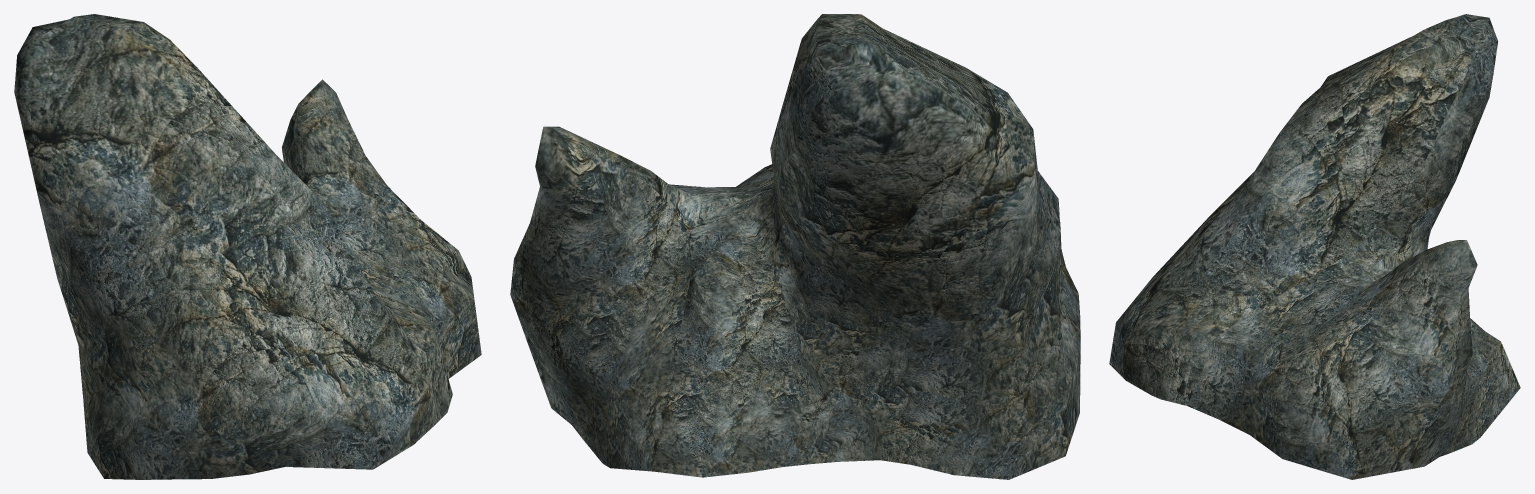
File: rockBlobTwo.FBX
3 renders of one model, left to right at view 1: azimuth 30°, elevation 25°; view 2: azimuth 150°, elevation 25°; view 3: azimuth 270°, elevation 25°, orthographic. The views are drawn at different scales.
Visible parts, largest first — view 1: pCube2; view 2: pCube2; view 3: pCube2.
Part boxes in pixels (bbox=[...]): pCube2: bbox=[14, 14, 481, 479]; pCube2: bbox=[510, 14, 1080, 479]; pCube2: bbox=[1109, 14, 1520, 479].
Bounding box in the file's own units: 21.87 × 20.98 × 19.23.
